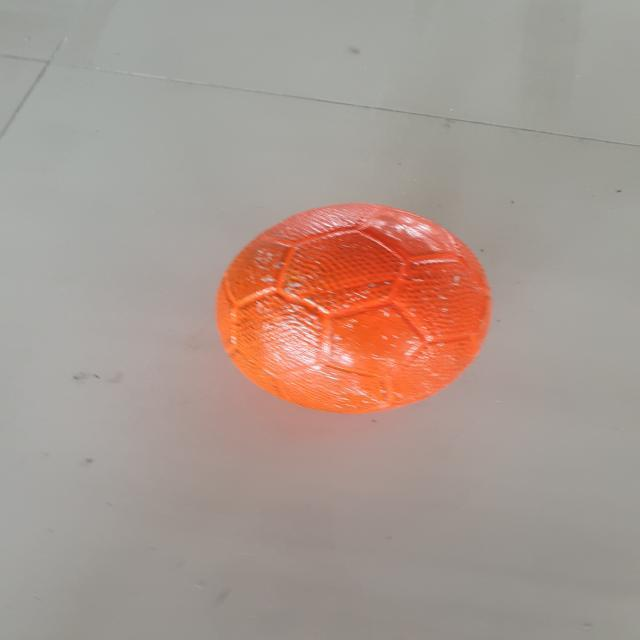bola: (189, 188, 522, 426)
